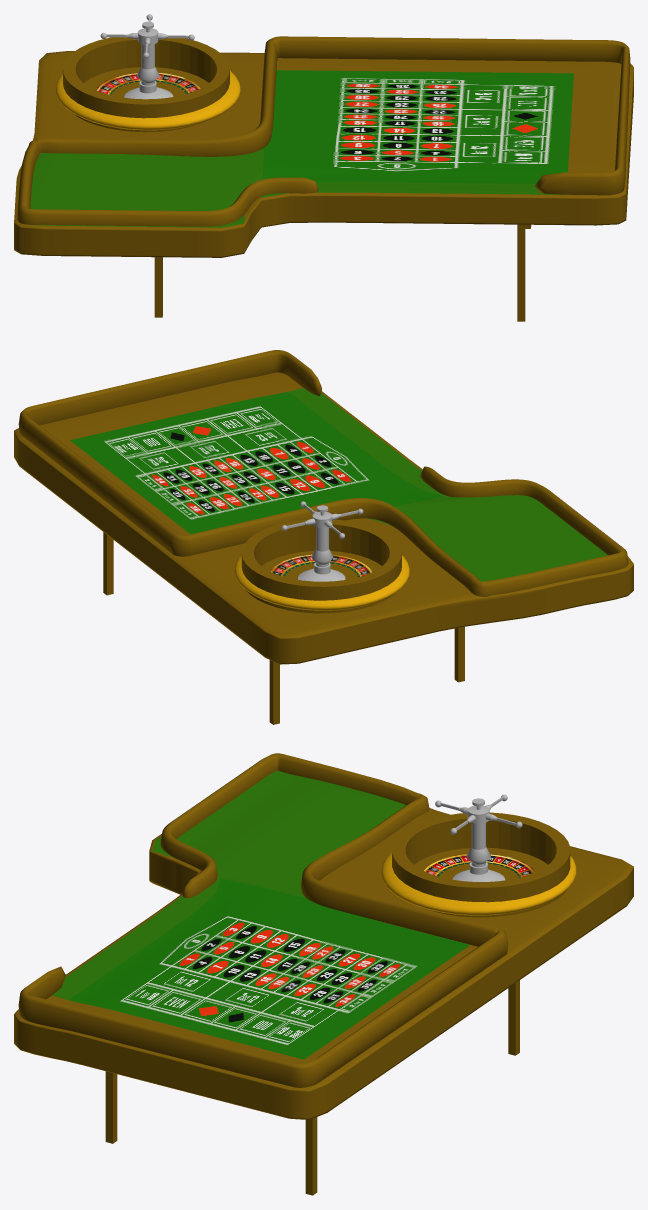
File: roulette_table.glb
3 renders of one model, top to bottom at view 1: azimuth 30°, elevation 25°; view 2: azimuth 150°, elevation 25°; view 3: azimuth 270°, elevation 25°, orthographic. The views are drawn at different scales.
Parts seen in each view (by area): view 1: polySurface2558, polySurface2550, polySurface2555, polySurface2556, polySurface2557, polySurface2554, polySurface2559, polySurface2553; view 2: polySurface2558, polySurface2550, polySurface2555, polySurface2556, polySurface2557, polySurface2559, polySurface2552, polySurface2551, polySurface2553; view 3: polySurface2558, polySurface2550, polySurface2555, polySurface2556, polySurface2557, polySurface2551, polySurface2554, polySurface2559, polySurface2552.
Part boxes in pixels (bbox=[...]): polySurface2558: bbox=[14, 51, 633, 257]; polySurface2550: bbox=[17, 36, 630, 226]; polySurface2555: bbox=[63, 37, 229, 132]; polySurface2556: bbox=[55, 70, 240, 130]; polySurface2557: bbox=[96, 73, 200, 94]; polySurface2554: bbox=[517, 224, 525, 321]; polySurface2559: bbox=[136, 44, 159, 93]; polySurface2553: bbox=[154, 257, 162, 317]; polySurface2558: bbox=[14, 372, 633, 664]; polySurface2550: bbox=[18, 350, 628, 596]; polySurface2555: bbox=[241, 519, 401, 613]; polySurface2556: bbox=[234, 555, 409, 610]; polySurface2557: bbox=[271, 554, 372, 576]; polySurface2559: bbox=[311, 527, 333, 574]; polySurface2552: bbox=[269, 660, 279, 724]; polySurface2551: bbox=[103, 532, 113, 595]; polySurface2553: bbox=[454, 626, 464, 682]; polySurface2558: bbox=[14, 770, 633, 1119]; polySurface2550: bbox=[18, 753, 508, 1087]; polySurface2555: bbox=[392, 812, 570, 917]; polySurface2556: bbox=[381, 852, 576, 915]; polySurface2557: bbox=[424, 854, 534, 877]; polySurface2551: bbox=[305, 1117, 317, 1195]; polySurface2554: bbox=[105, 1071, 117, 1143]; polySurface2559: bbox=[466, 822, 490, 874]; polySurface2552: bbox=[508, 980, 519, 1055].
Bounding box in the file's own units: 1.29 × 0.4326 × 1.03.
12 materials, 2 textured.
